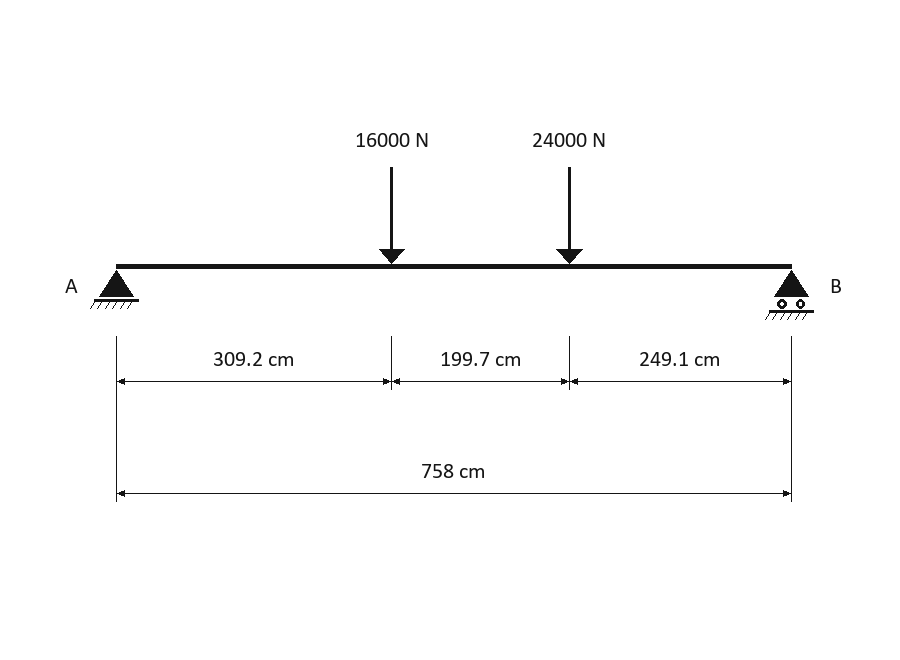pin_support: (90, 270, 139, 309)
point_load: (556, 167, 583, 264), (379, 167, 405, 264)
roller_support: (765, 270, 814, 320)
